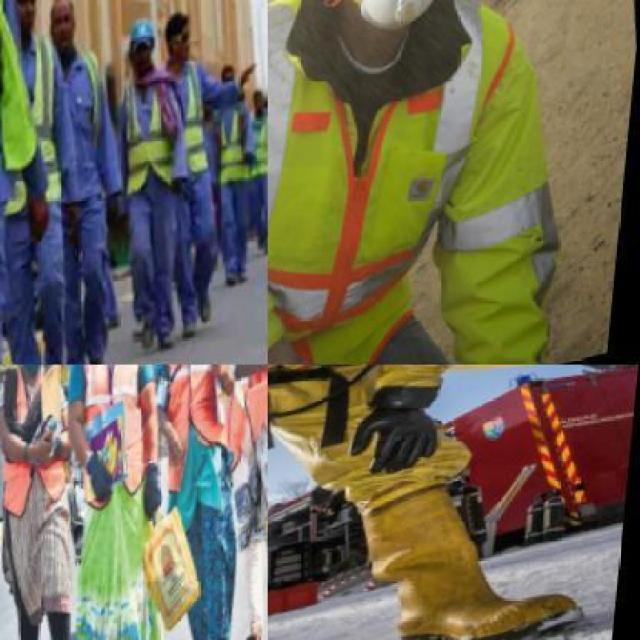Vest: (268, 0, 614, 363), (268, 364, 540, 556), (65, 364, 172, 522), (0, 37, 85, 229), (149, 364, 251, 496), (0, 366, 86, 519), (48, 46, 126, 206), (0, 0, 62, 197), (117, 69, 197, 208), (174, 57, 226, 183), (216, 108, 266, 202), (252, 120, 266, 192)
